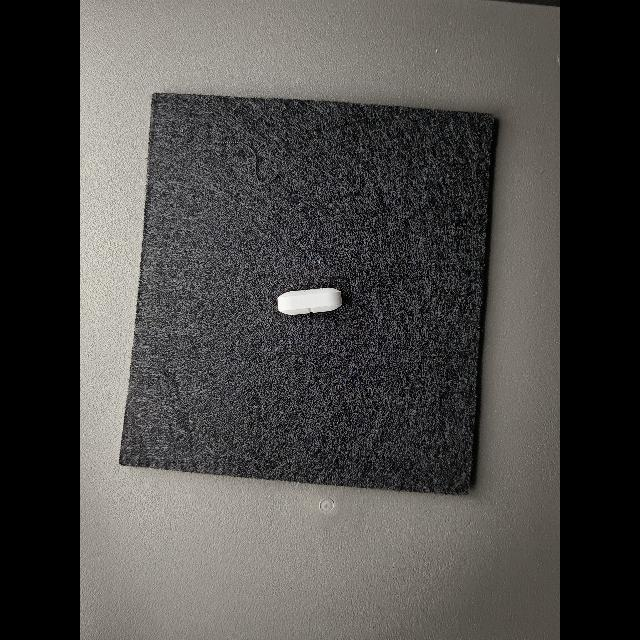Intact Pill: (277, 288, 342, 315)
